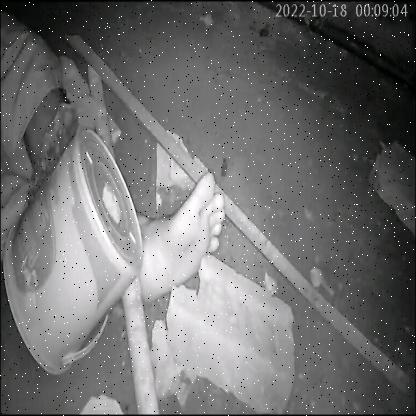leg: (130, 172, 248, 308)
